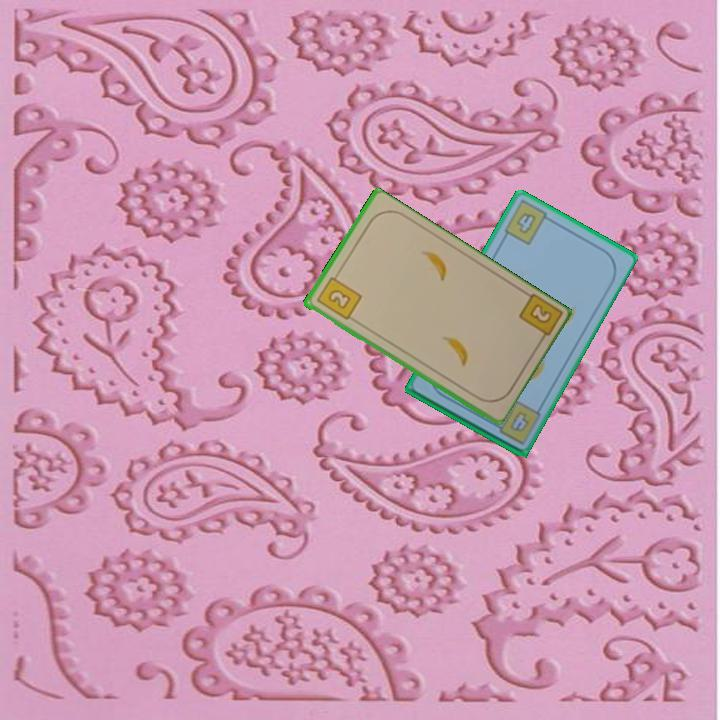2b: (514, 290, 563, 347), (313, 269, 364, 323)
4b: (500, 198, 555, 248), (506, 407, 532, 435)
